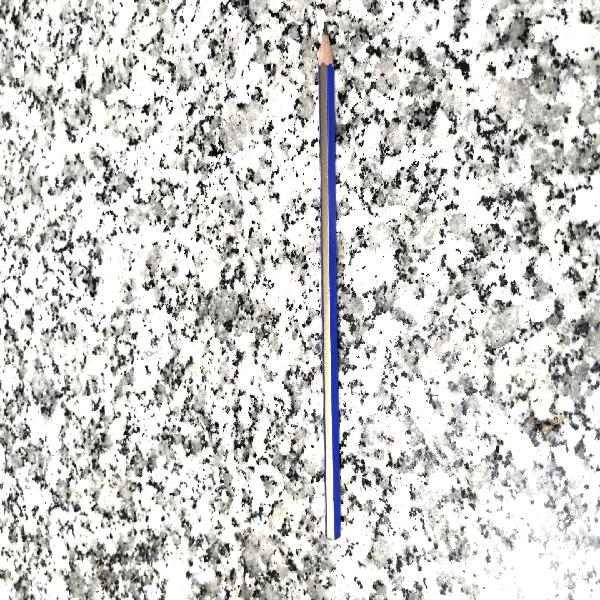pencil: (315, 25, 348, 547)
